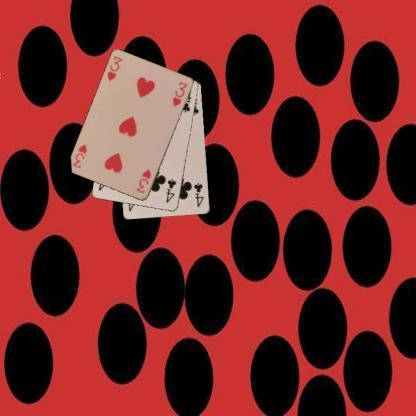3h: (134, 167, 153, 195), (105, 54, 124, 82)
4c: (192, 180, 206, 208), (164, 176, 178, 204)
